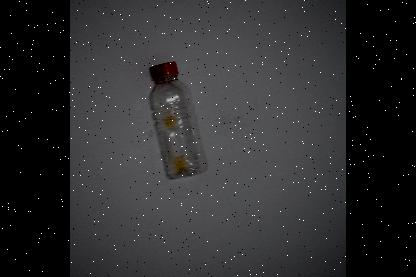Plastic Bottle: (148, 61, 206, 179)
